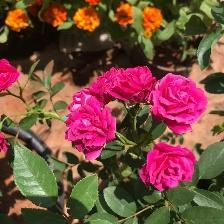rose: (150, 77, 212, 134), (64, 95, 121, 157), (138, 139, 199, 195), (91, 65, 160, 104), (74, 6, 105, 33), (143, 4, 166, 39), (5, 6, 31, 34), (1, 64, 25, 94), (43, 4, 68, 31), (74, 9, 104, 31), (117, 3, 138, 27)
